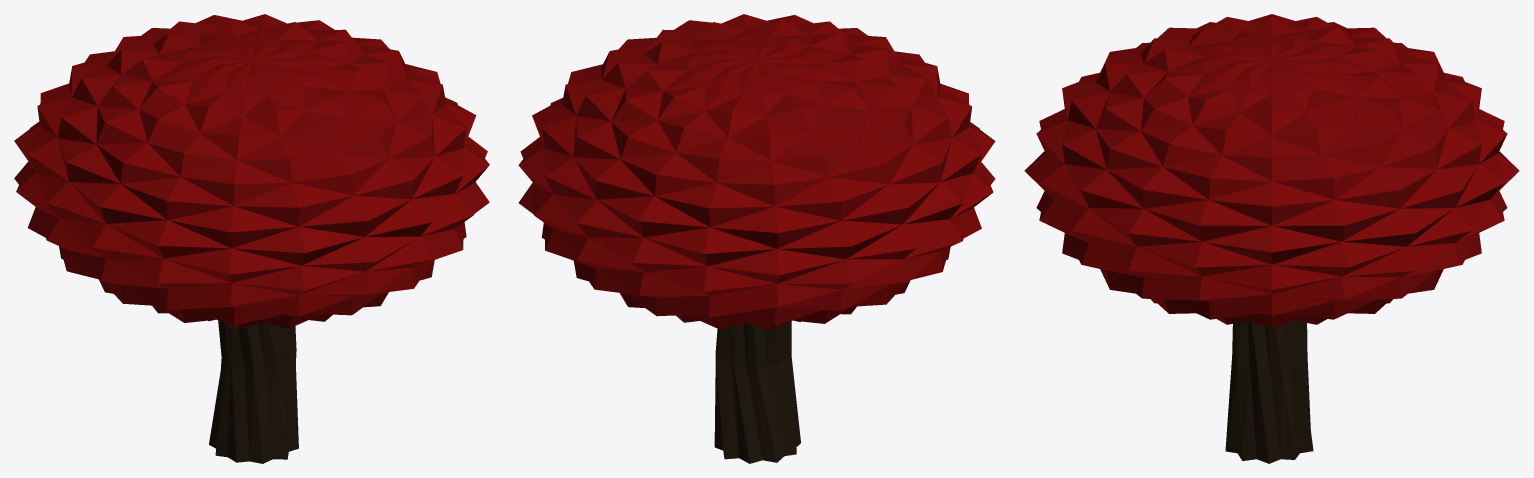
Rendered from ShortFatTree_Red.fbx.
3 renders of one model, left to right at view 1: azimuth 30°, elevation 25°; view 2: azimuth 150°, elevation 25°; view 3: azimuth 270°, elevation 25°, orthographic.
Visible parts, largest first — view 1: pSphere3, pCylinder3; view 2: pSphere3, pCylinder3; view 3: pSphere3, pCylinder3.
Boxes of the visible parts, x1,y1,x2,y2 form: pSphere3: [14, 14, 489, 328]; pCylinder3: [209, 320, 298, 463]; pSphere3: [518, 14, 995, 329]; pCylinder3: [714, 321, 800, 463]; pSphere3: [1024, 14, 1519, 327]; pCylinder3: [1225, 320, 1313, 463].
Size of the model in its own units: 17.7 by 15.89 by 18.46.
